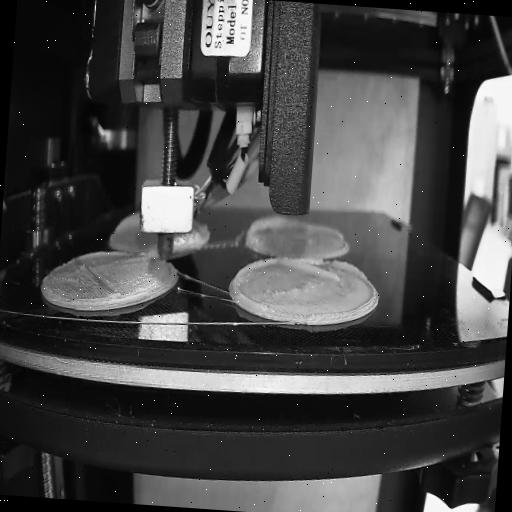over_extrusion: (280, 254, 368, 288), (230, 255, 276, 312), (244, 213, 304, 246)
